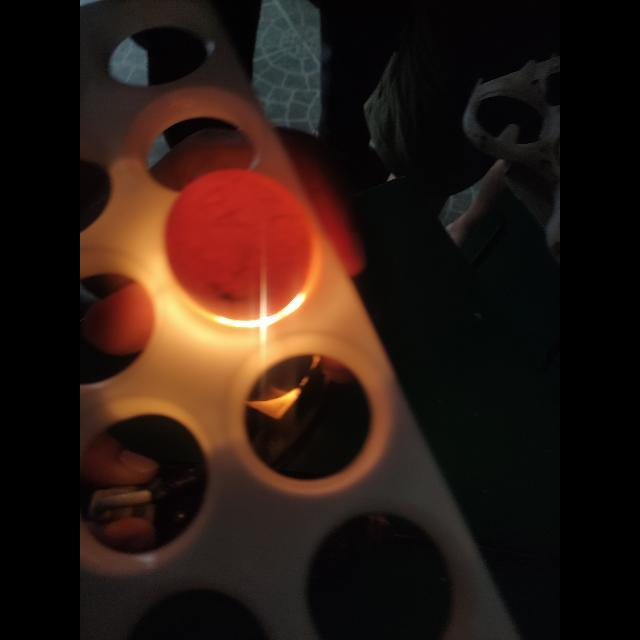Infertile: (167, 166, 317, 322)
